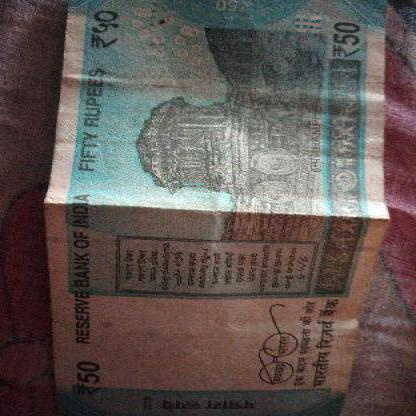New50Back: (42, 0, 374, 416)
